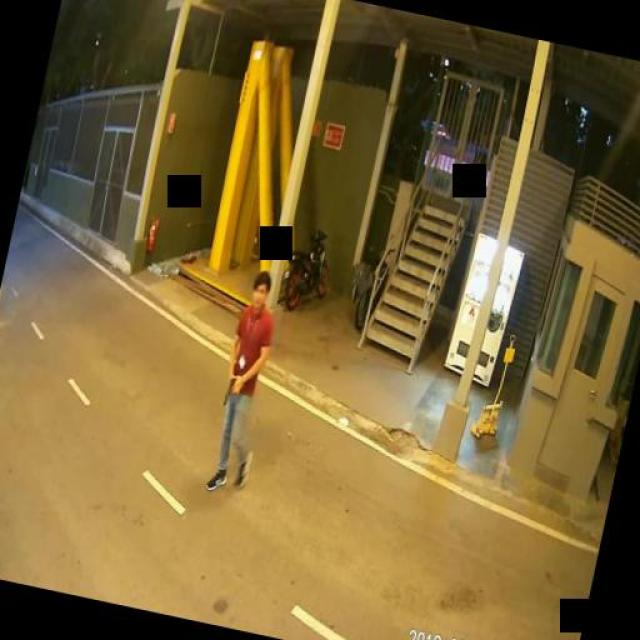gun: (220, 374, 241, 405)
